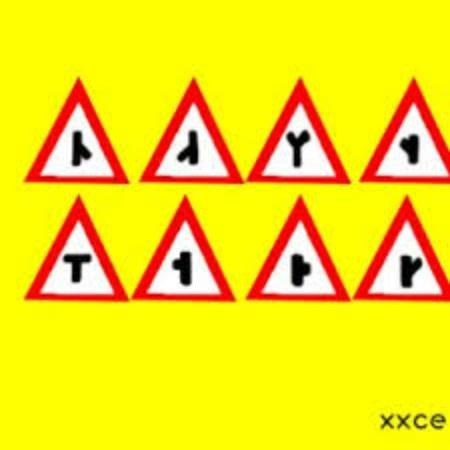fork_road: (20, 73, 131, 186), (24, 190, 131, 303), (136, 190, 242, 303), (139, 72, 246, 183), (250, 69, 351, 186), (251, 190, 350, 302), (355, 192, 449, 302), (360, 74, 449, 182)
